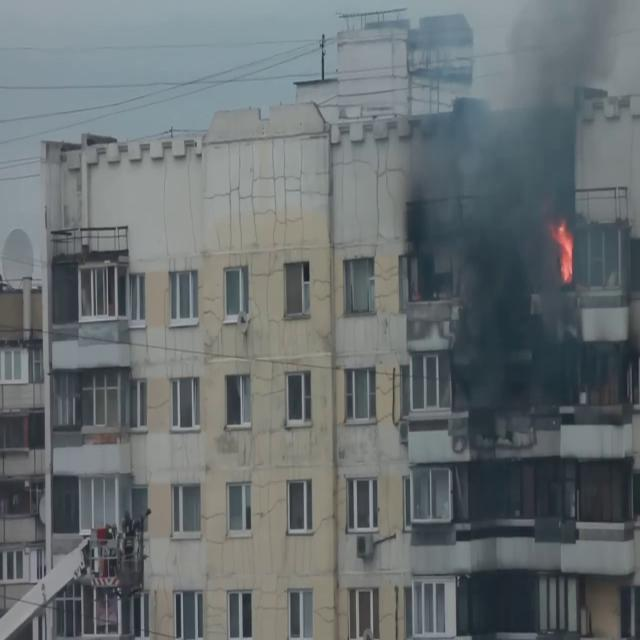Fire: (550, 207, 576, 288)
Smoke: (402, 1, 636, 401)
